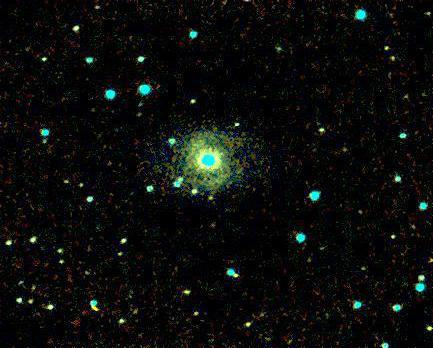star: (198, 183, 228, 213)
